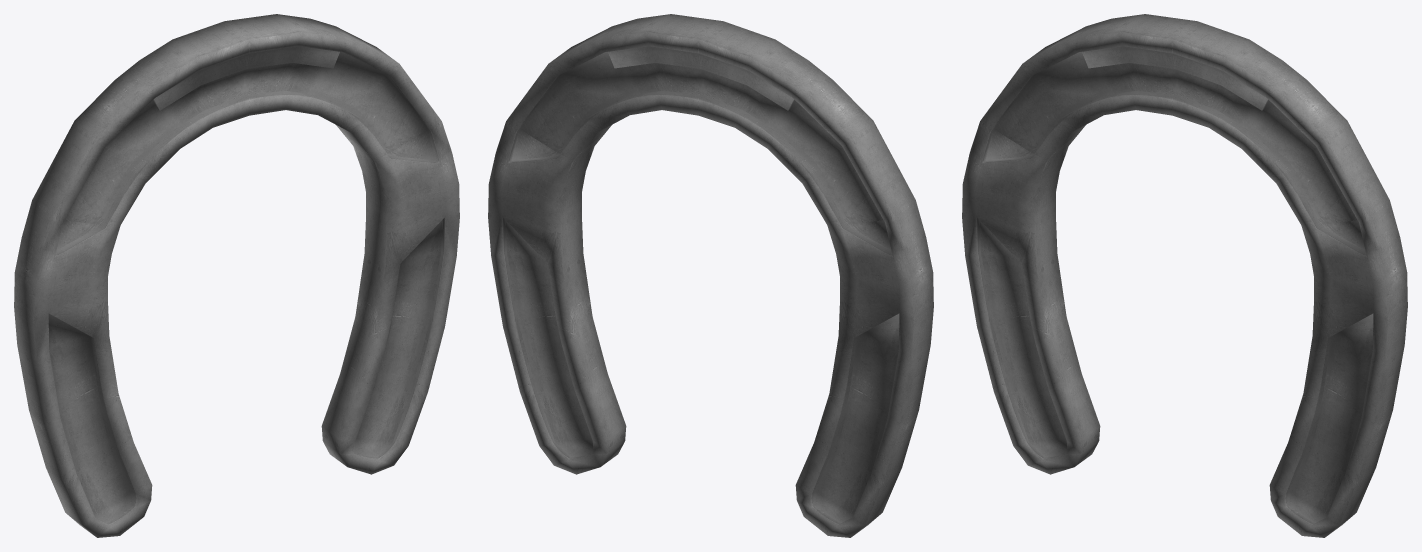
The model's file is horseshoe_low_poly (2).glb.
3 views of the same model, side by side, from view 1: azimuth 30°, elevation 25°; view 2: azimuth 150°, elevation 25°; view 3: azimuth 330°, elevation 25° (orthographic).
Visible parts, largest first — view 1: horseshoe_0; view 2: horseshoe_0; view 3: horseshoe_0.
Part boxes in pixels (x1,y1,x2,y2): horseshoe_0: (14, 14, 459, 537); horseshoe_0: (488, 14, 933, 537); horseshoe_0: (962, 14, 1407, 537).
Size of the model in its own units: 3.45 by 3.63 by 0.3507.
1 material, 1 textured.
